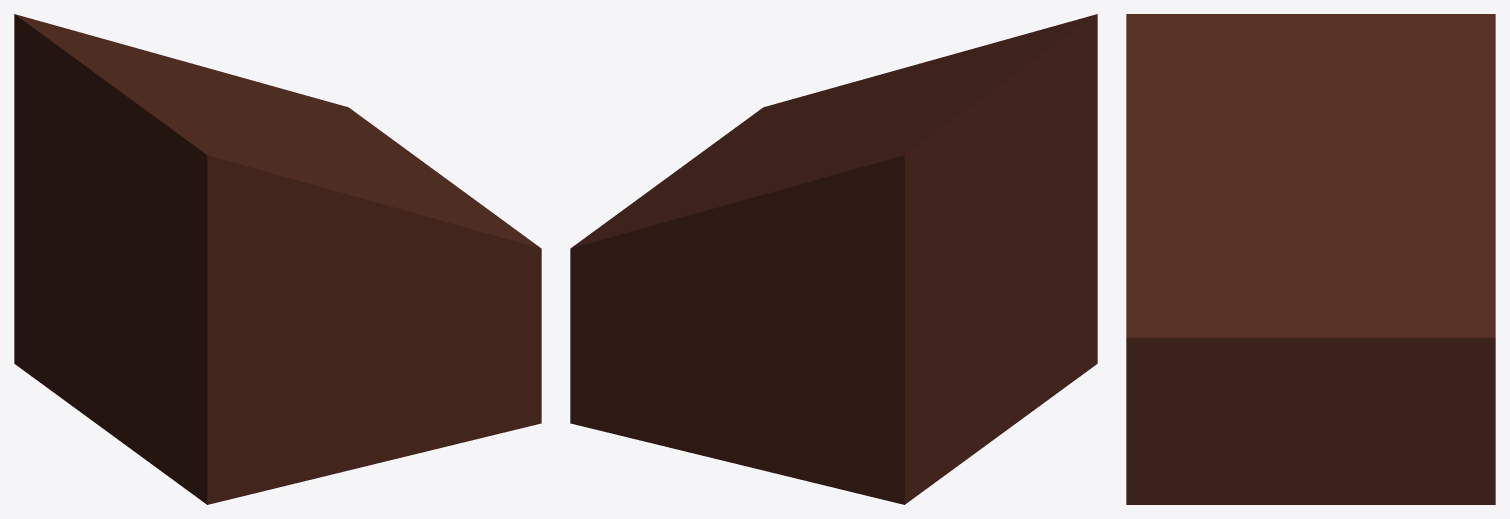
Rendered from DirtSlopeUpper.glb.
3 views of the same model, side by side, from view 1: azimuth 30°, elevation 25°; view 2: azimuth 150°, elevation 25°; view 3: azimuth 270°, elevation 25° (orthographic). The views are drawn at different scales.
Parts seen in each view (by area): view 1: DirtSlopeUpper; view 2: DirtSlopeUpper; view 3: DirtSlopeUpper.
Boxes of the visible parts, x1,y1,x2,y2 form: DirtSlopeUpper: [14, 14, 541, 504]; DirtSlopeUpper: [570, 14, 1097, 504]; DirtSlopeUpper: [1126, 14, 1495, 504].
Bounding box in the file's own units: 1 × 1 × 1.
